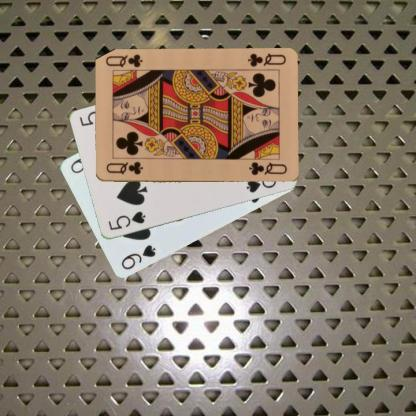5s: (105, 209, 147, 232)
9s: (119, 242, 157, 272)
Qc: (245, 51, 287, 69), (103, 160, 144, 176)
